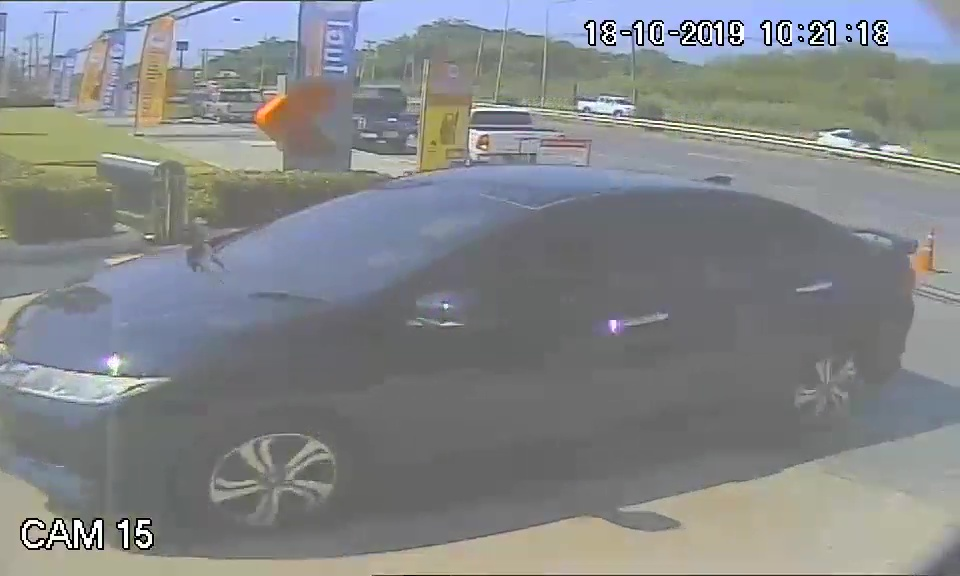sedan: (5, 160, 919, 507)
